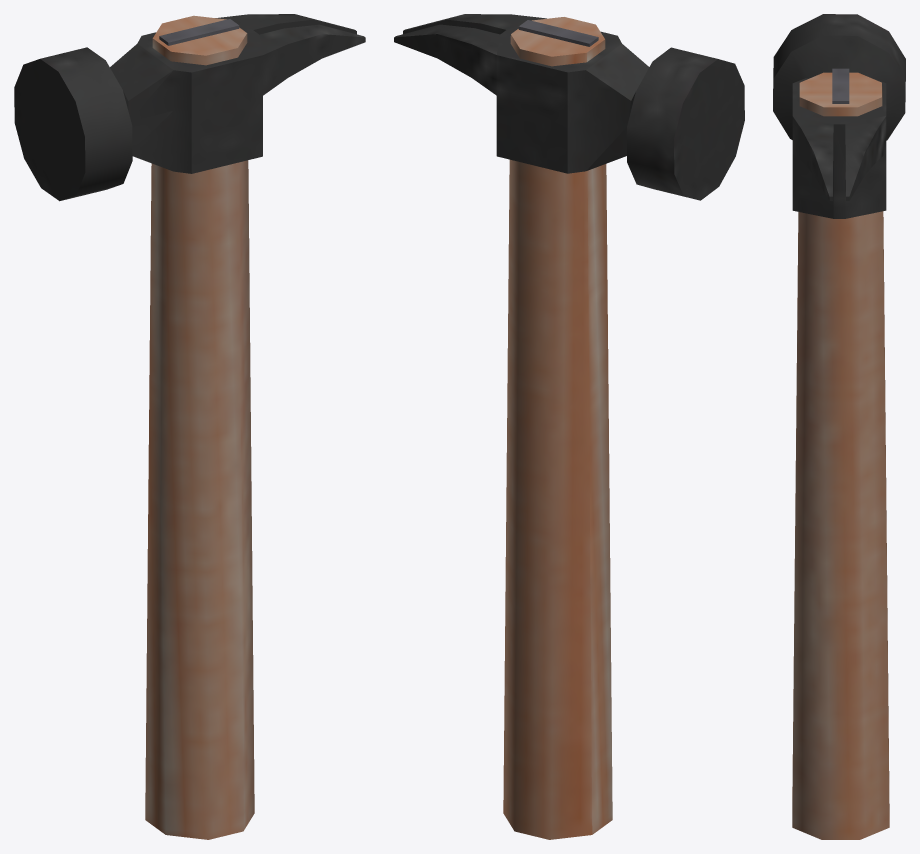
3 renders of one model, left to right at view 1: azimuth 30°, elevation 25°; view 2: azimuth 150°, elevation 25°; view 3: azimuth 270°, elevation 25°, orthographic. The views are drawn at different scales.
Visible parts, largest first — view 1: Object_3; view 2: Object_3; view 3: Object_3.
Boxes of the visible parts, x1,y1,x2,y2 form: Object_3: (14,14,365,839); Object_3: (394,14,744,839); Object_3: (773,14,905,839).
Size of the model in its own units: 0.1219 by 0.304 by 0.0483.
Materials: 1 (1 with a texture image).
